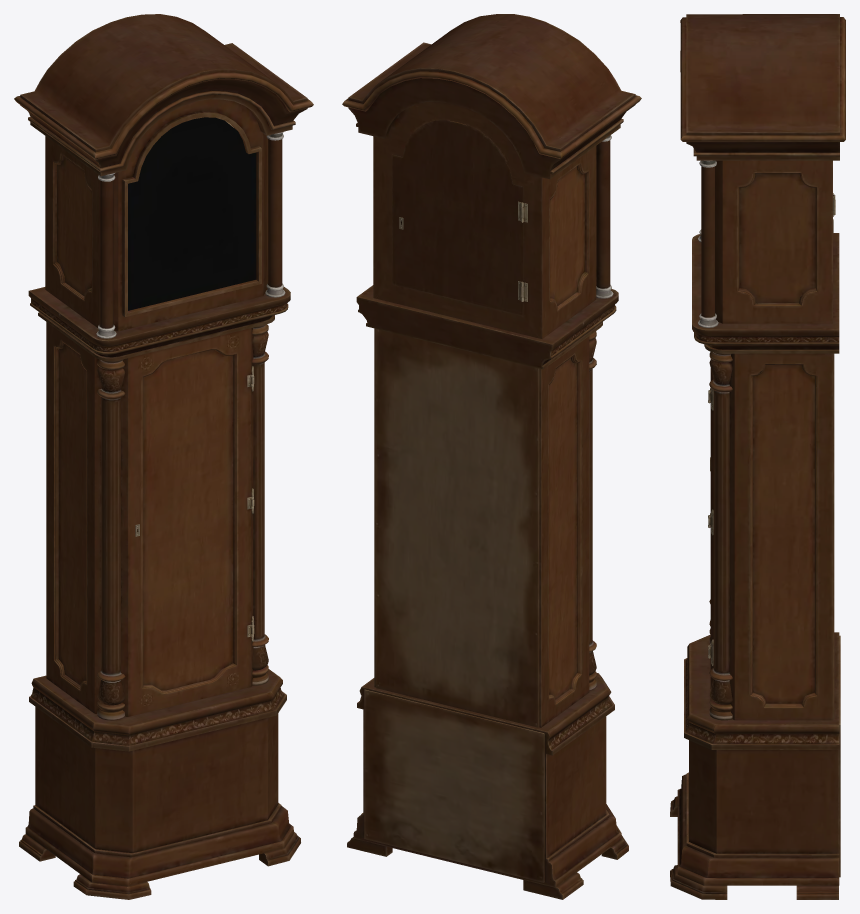
File: vintage_grandfather_clock_01.glb
The picture shows the model from 3 angles, left to right: view 1: azimuth 30°, elevation 25°; view 2: azimuth 150°, elevation 25°; view 3: azimuth 270°, elevation 25°; orthographic projection. The views are drawn at different scales.
Visible parts, largest first — view 1: vintage_grandfather_clock_01_body; view 2: vintage_grandfather_clock_01_body; view 3: vintage_grandfather_clock_01_body.
Boxes of the visible parts, bbox=[...] form: vintage_grandfather_clock_01_body: bbox=[14, 14, 313, 899]; vintage_grandfather_clock_01_body: bbox=[342, 14, 641, 899]; vintage_grandfather_clock_01_body: bbox=[670, 14, 845, 899].
Size of the model in its own units: 0.6255 by 2.19 by 0.4265.
Materials: 2 (2 with a texture image).
